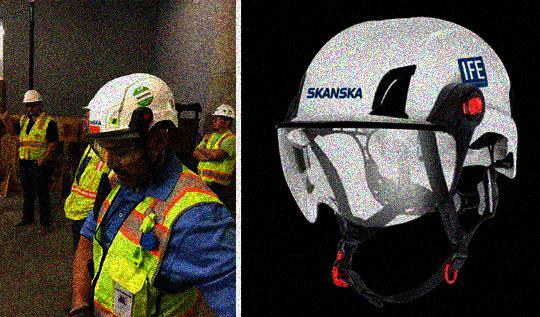helmet: (82, 70, 181, 185), (211, 103, 235, 133), (20, 89, 45, 117), (79, 96, 97, 133)
